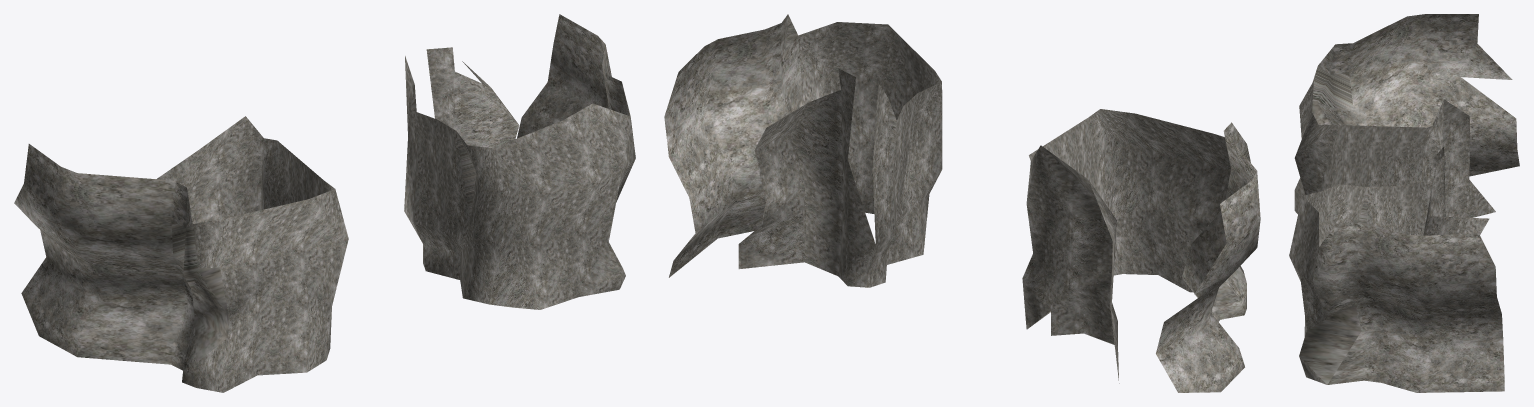
File: DWARF_PALACE_FORGE_CAVEC01.fbx
3 views of the same model, side by side, from view 1: azimuth 30°, elevation 25°; view 2: azimuth 150°, elevation 25°; view 3: azimuth 270°, elevation 25° (orthographic). The views are drawn at different scales.
Visible parts, largest first — view 1: DWARF_PALACE_FORGE_CAVEC01; view 2: DWARF_PALACE_FORGE_CAVEC01; view 3: DWARF_PALACE_FORGE_CAVEC01.
Boxes of the visible parts, x1=… form: DWARF_PALACE_FORGE_CAVEC01: x1=14, y1=14, x2=635, y2=392; DWARF_PALACE_FORGE_CAVEC01: x1=664, y1=14, x2=1260, y2=392; DWARF_PALACE_FORGE_CAVEC01: x1=1289, y1=14, x2=1519, y2=392.
Size of the model in its own units: 795065 by 289063 by 343667.
1 material, 1 textured.
